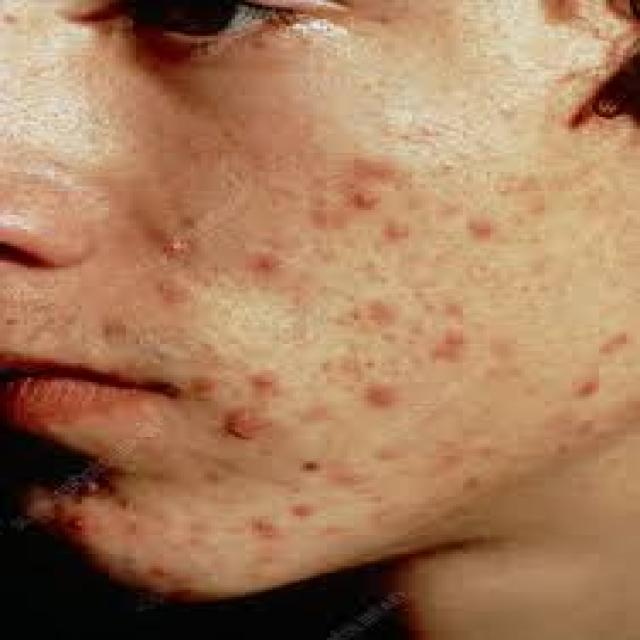Acne: (198, 162, 623, 442), (81, 510, 376, 577)
